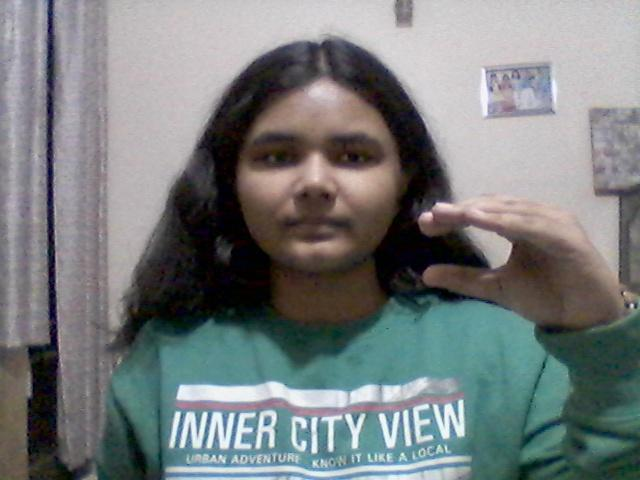no: (392, 178, 632, 336)
